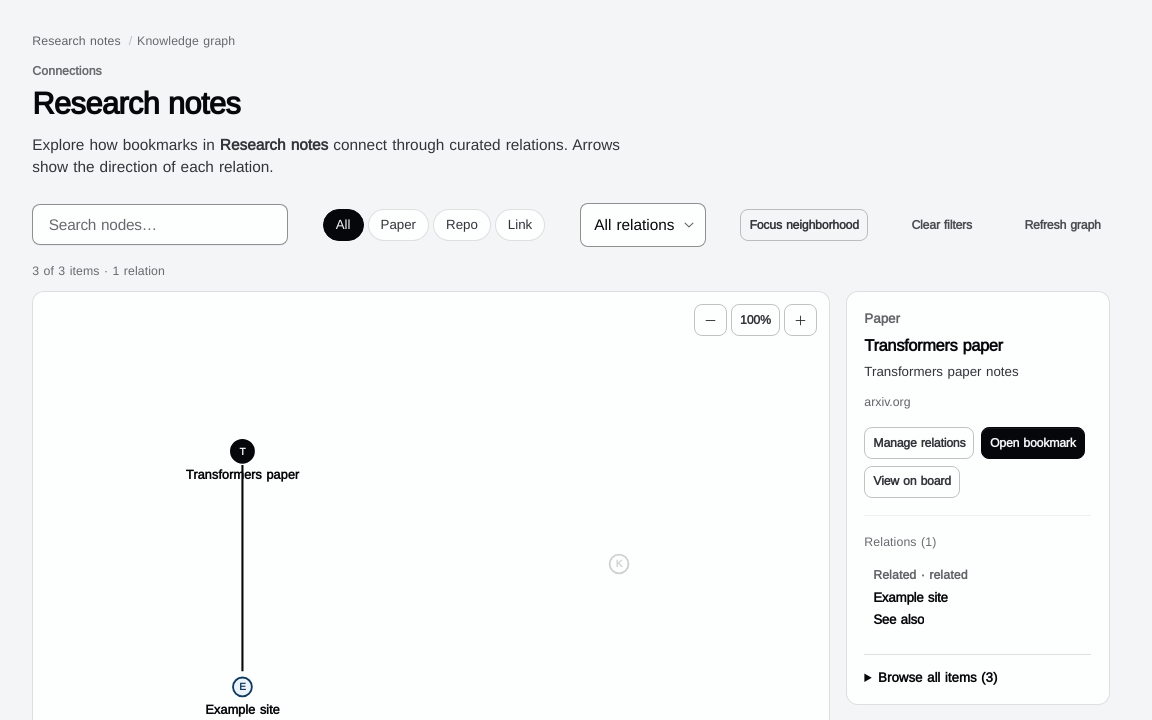
Scenario: Graph product browsing › withdraws stale editing capability while checking a refreshed snapshot
What coordinates should you click on to do the following:
click the button "Refresh graph"
I would click on:
 (1063, 225)
Its box is [1015,209,1110,241].
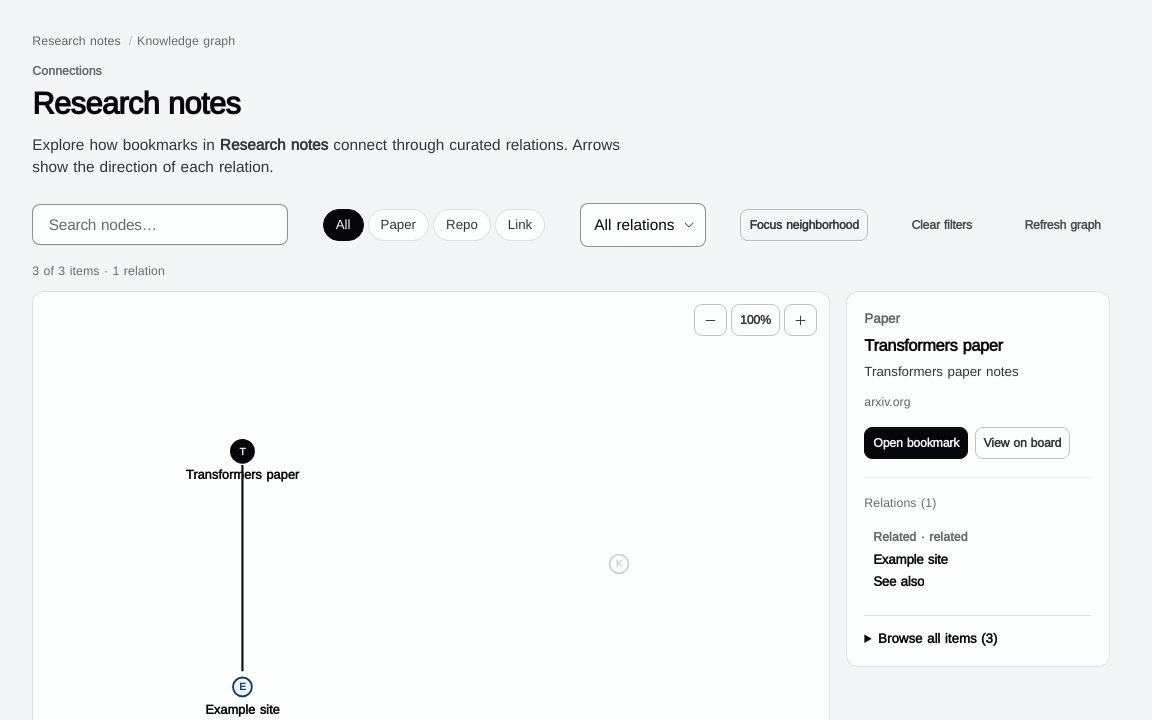
Expected: the text "Manage relations" is gone
